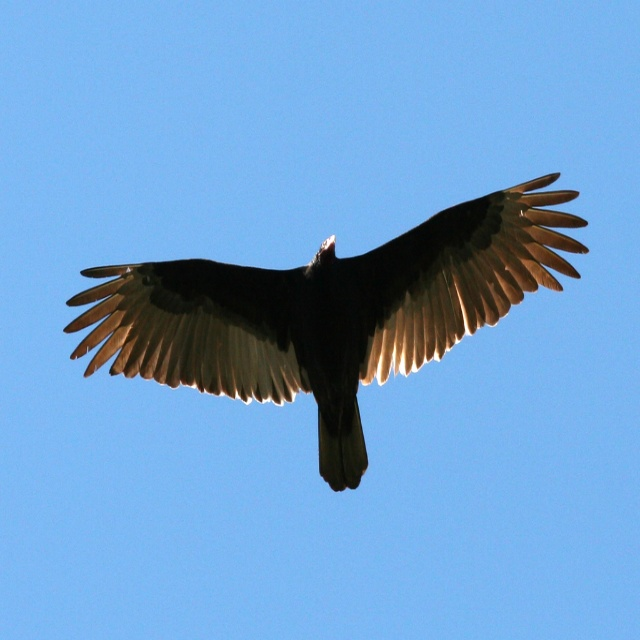Eagle: (63, 172, 589, 492)
